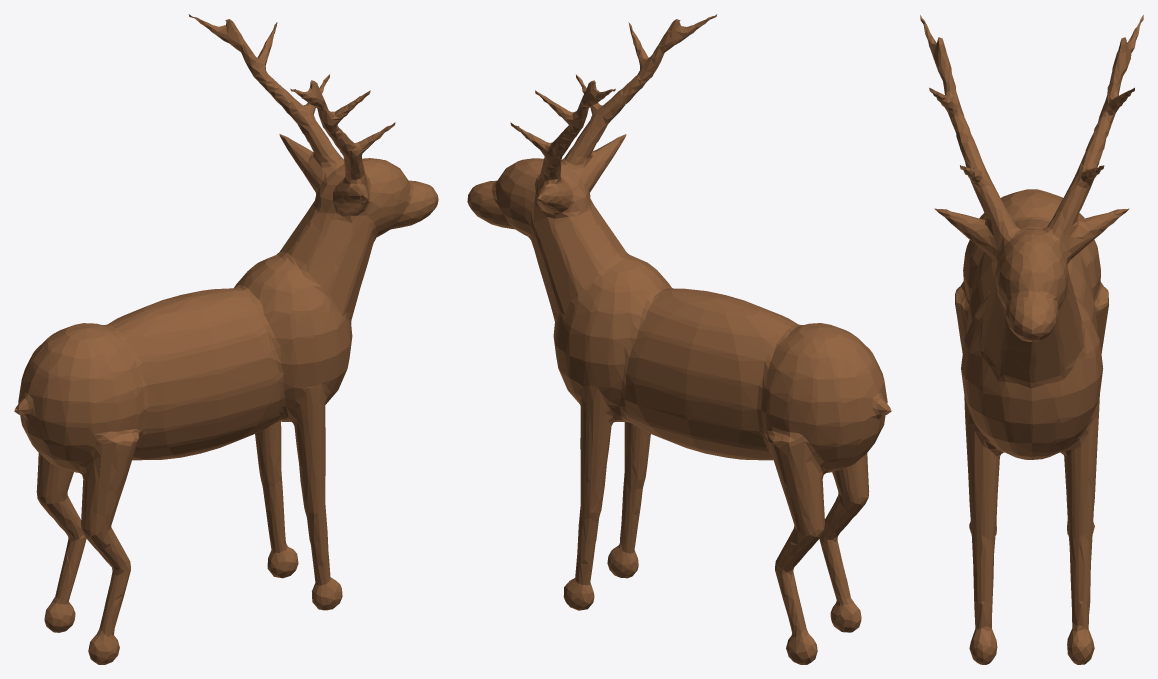
File: NEW_RECOVERY_029_LOD0.glb
3 views of the same model, side by side, from view 1: azimuth 30°, elevation 25°; view 2: azimuth 150°, elevation 25°; view 3: azimuth 270°, elevation 25° (orthographic). The views are drawn at different scales.
Parts seen in each view (by area): view 1: Deer_single_solid; view 2: Deer_single_solid; view 3: Deer_single_solid.
Part boxes in pixels (x1,y1,x2,y2): Deer_single_solid: (14,14,438,664); Deer_single_solid: (467,14,891,664); Deer_single_solid: (920,15,1143,664).
Bounding box in the file's own units: 2.76 × 3.49 × 1.15.
